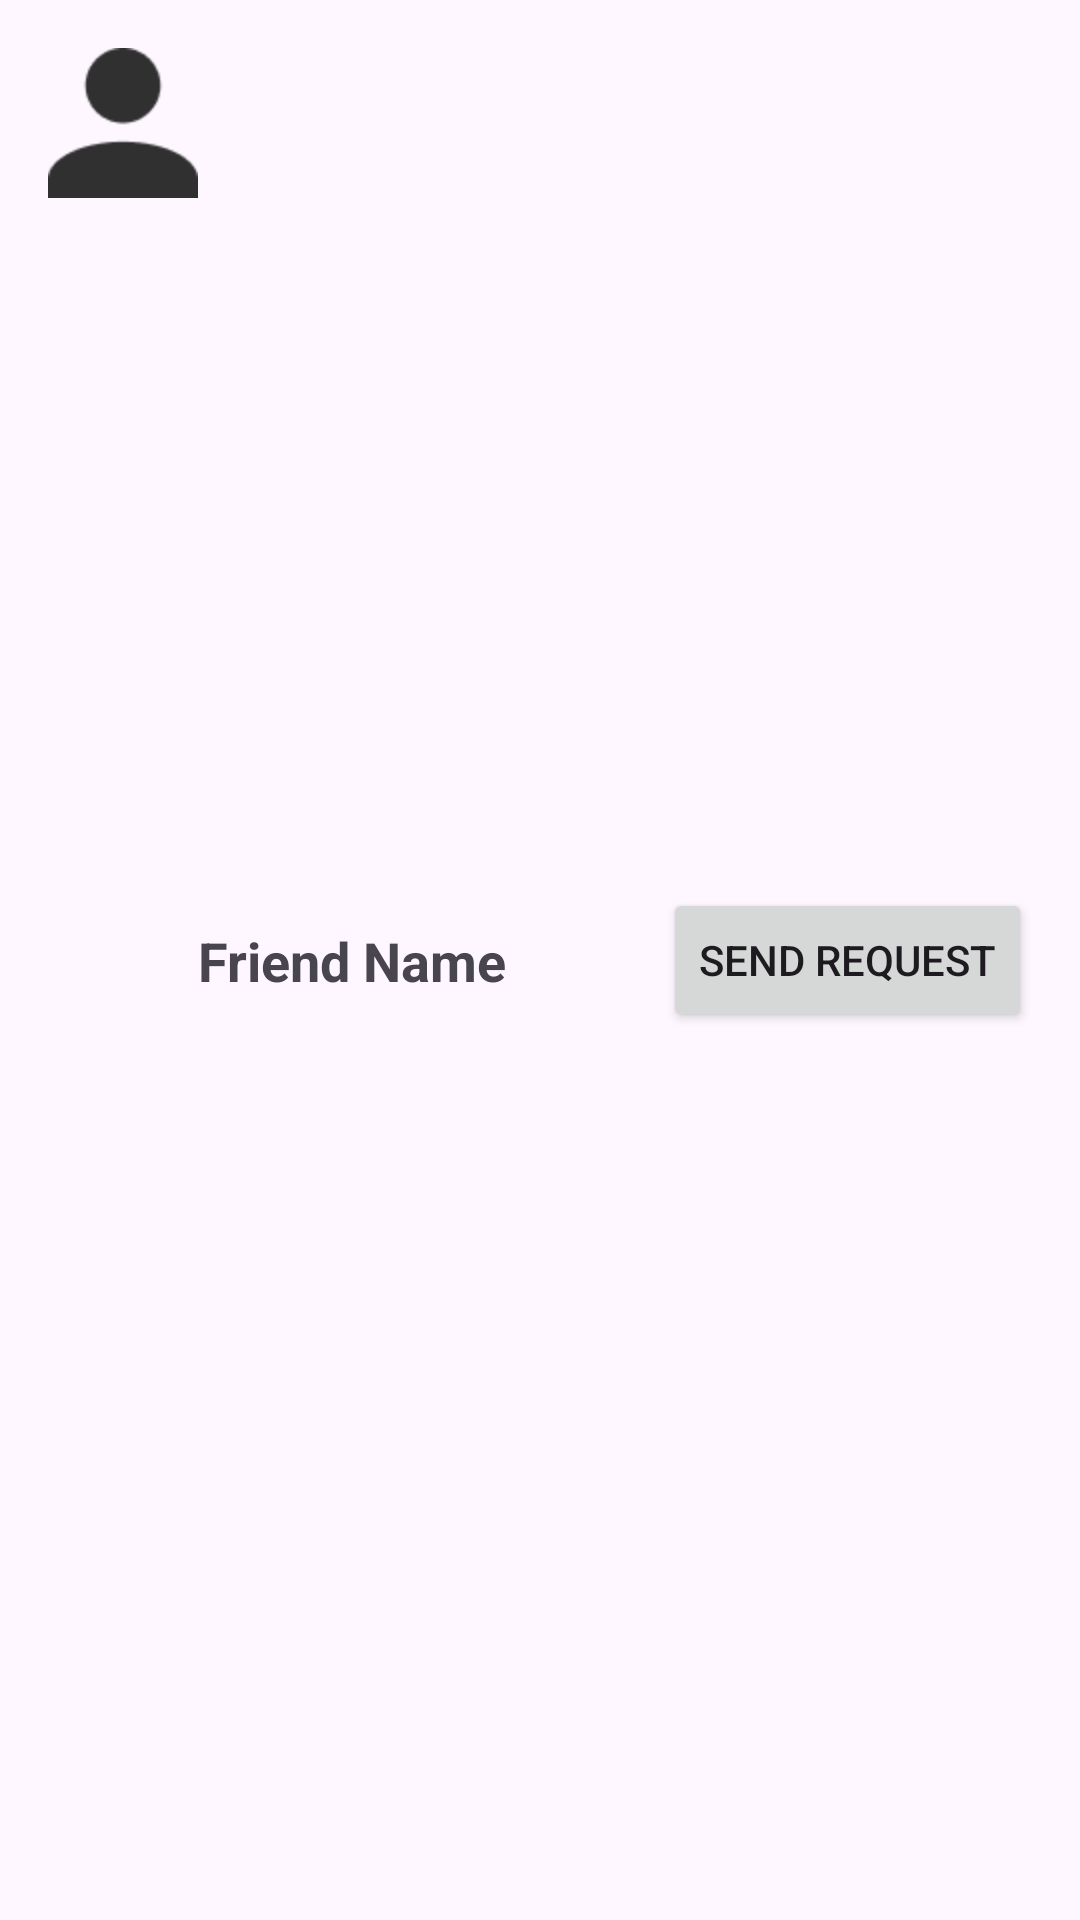

Icons on this 1080 × 1920 Android screen, each with its box as [x1=x1, y1=y1, x2=x2, y2=y2]:
profile: [x1=48, y1=48, x2=198, y2=198]
